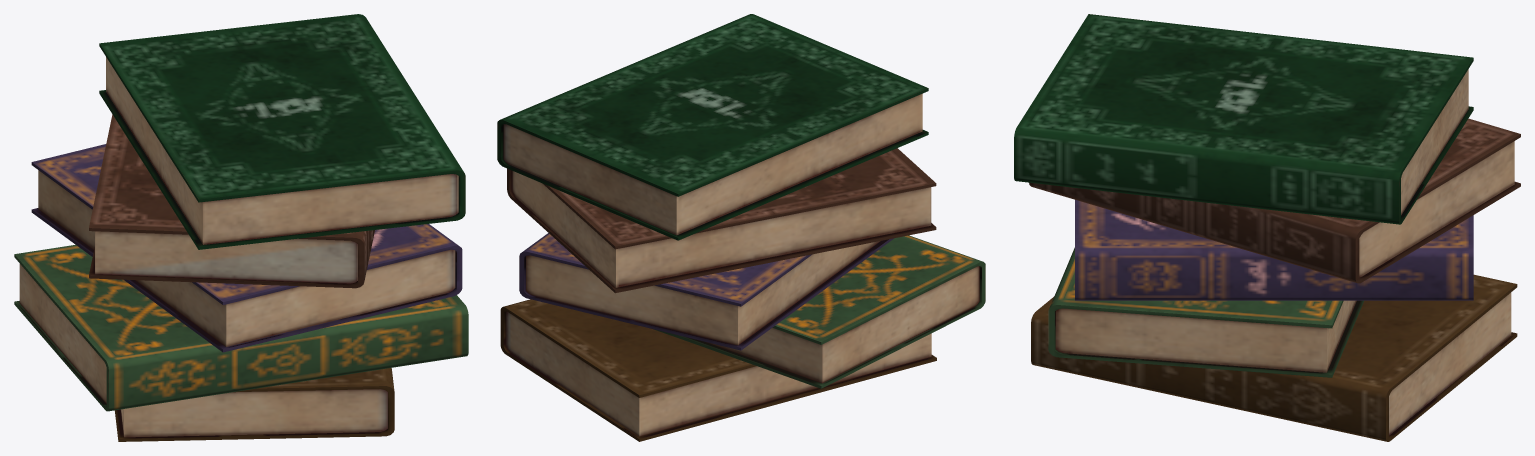
The model's file is sb_obj_DemonsCastle005_books02.fbx.
3 views of the same model, side by side, from view 1: azimuth 30°, elevation 25°; view 2: azimuth 150°, elevation 25°; view 3: azimuth 270°, elevation 25° (orthographic). The views are drawn at different scales.
Parts seen in each view (by area): view 1: sb_obj_DemonsCastle005_books02; view 2: sb_obj_DemonsCastle005_books02; view 3: sb_obj_DemonsCastle005_books02.
Part boxes in pixels (box(x1,y1,x2,y2)): sb_obj_DemonsCastle005_books02: box(14, 14, 468, 441); sb_obj_DemonsCastle005_books02: box(497, 14, 985, 441); sb_obj_DemonsCastle005_books02: box(1014, 14, 1520, 441).
Size of the model in its own units: 0.5168 by 0.3156 by 0.5404.
Materials: 1 (1 with a texture image).
